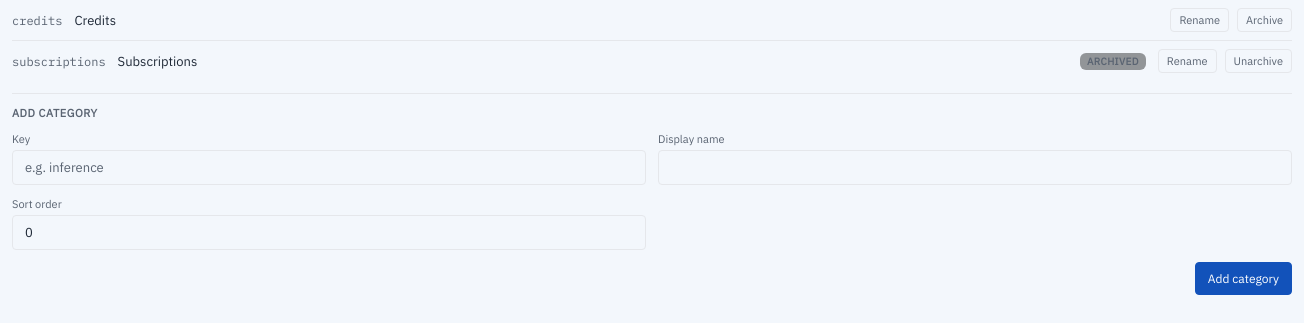
Test case: SpendCategoryCatalog › does not let the key change even while renaming
Click the button with aria-label "rename credits" at x=1200, y=20, box [1170, 8, 1229, 32]
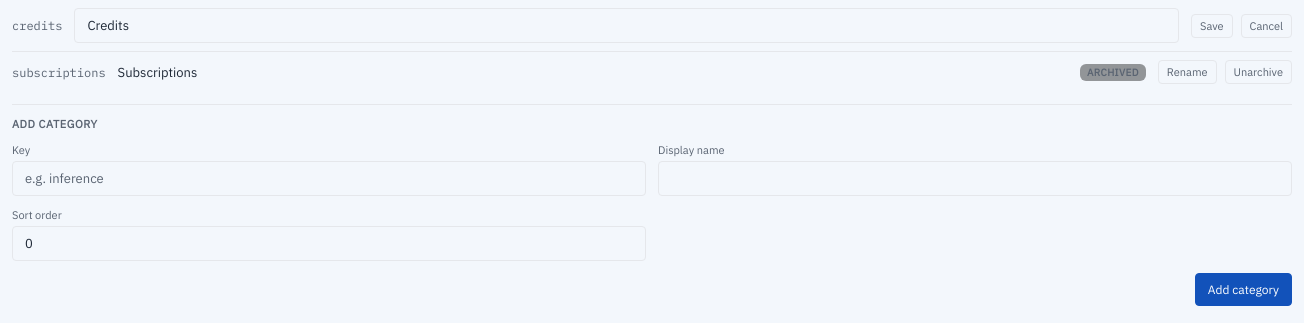
Expected: the field named "Rename Credits" holds "Credits", [74, 8, 1179, 43]
